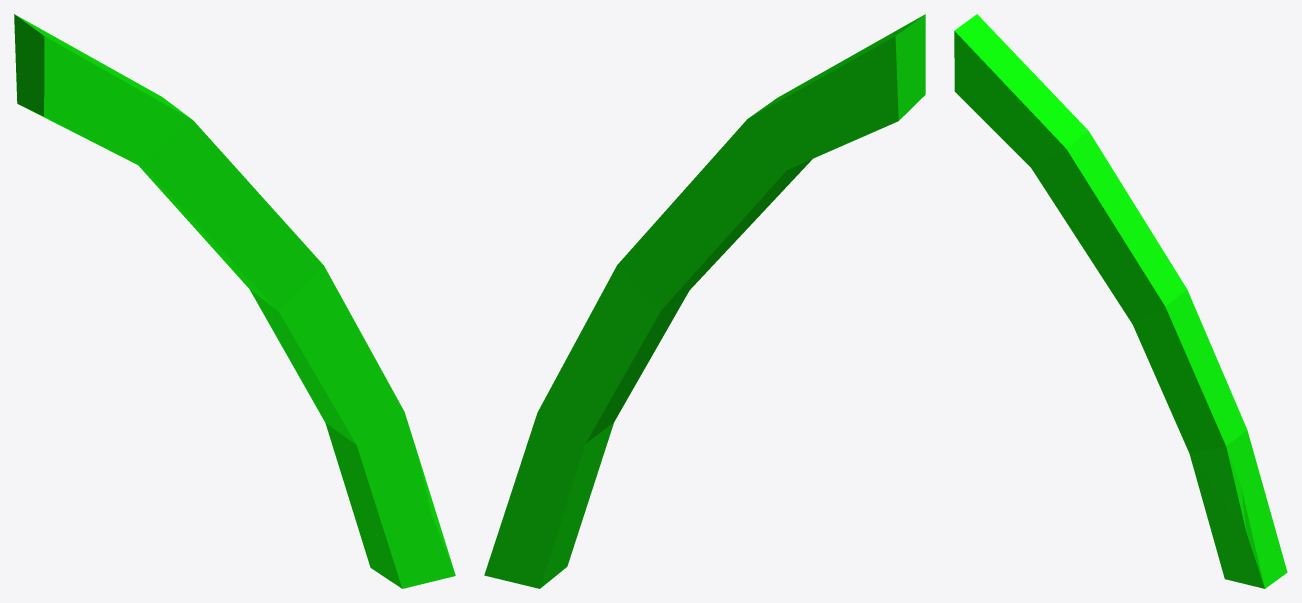
The model's file is SM_Wall_Beam_Bend_Out_B_2x3m.fbx.
3 views of the same model, side by side, from view 1: azimuth 30°, elevation 25°; view 2: azimuth 150°, elevation 25°; view 3: azimuth 330°, elevation 25° (orthographic). The views are drawn at different scales.
Visible parts, largest first — view 1: wall-beam-bend-out-b-2x3m; view 2: wall-beam-bend-out-b-2x3m; view 3: wall-beam-bend-out-b-2x3m.
Boxes of the visible parts, bbox=[...] form: wall-beam-bend-out-b-2x3m: bbox=[14, 14, 455, 588]; wall-beam-bend-out-b-2x3m: bbox=[484, 14, 925, 588]; wall-beam-bend-out-b-2x3m: bbox=[954, 14, 1287, 588].
Bounding box in the file's own units: 1.97 × 2.92 × 0.2515.
